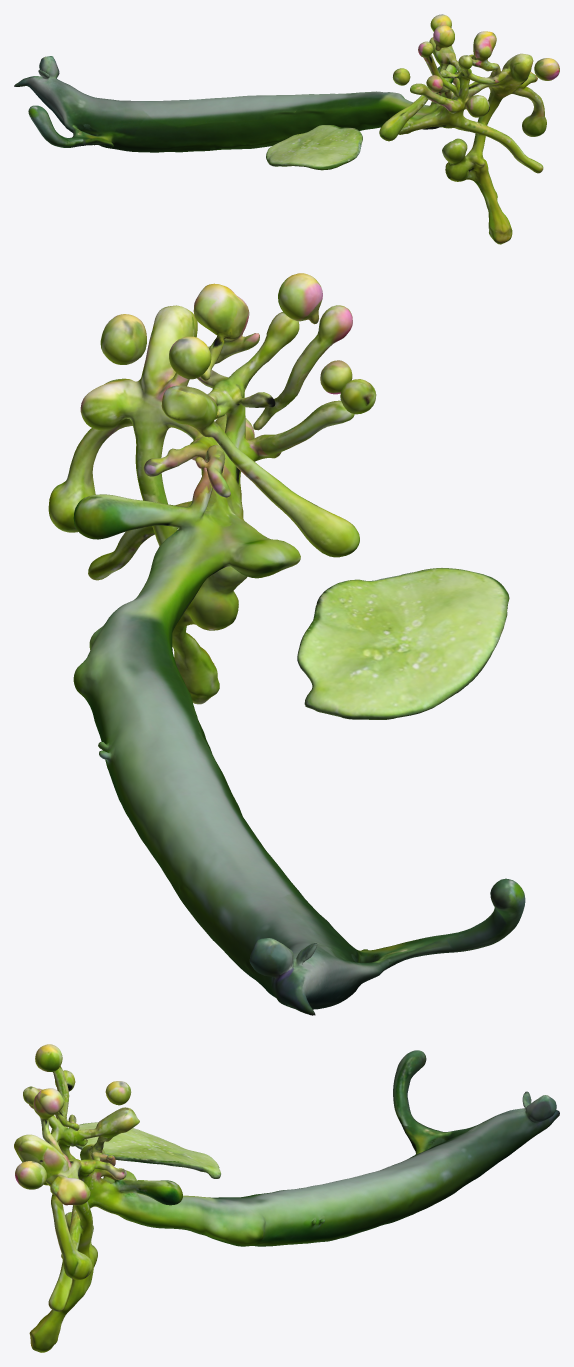
The model's file is climber0020.gltf.
3 views of the same model, one above another, from view 1: azimuth 30°, elevation 25°; view 2: azimuth 150°, elevation 25°; view 3: azimuth 270°, elevation 25° (orthographic). The views are drawn at different scales.
Visible parts, largest first — view 1: Mesh_0; view 2: Mesh_0; view 3: Mesh_0.
Boxes of the visible parts, box(x1,y1,x2,y2) form: Mesh_0: box(14, 14, 559, 244); Mesh_0: box(48, 273, 525, 1015); Mesh_0: box(14, 1044, 559, 1352).
Size of the model in its own units: 1.91 by 1.11 by 2.
Materials: 1 (1 with a texture image).
